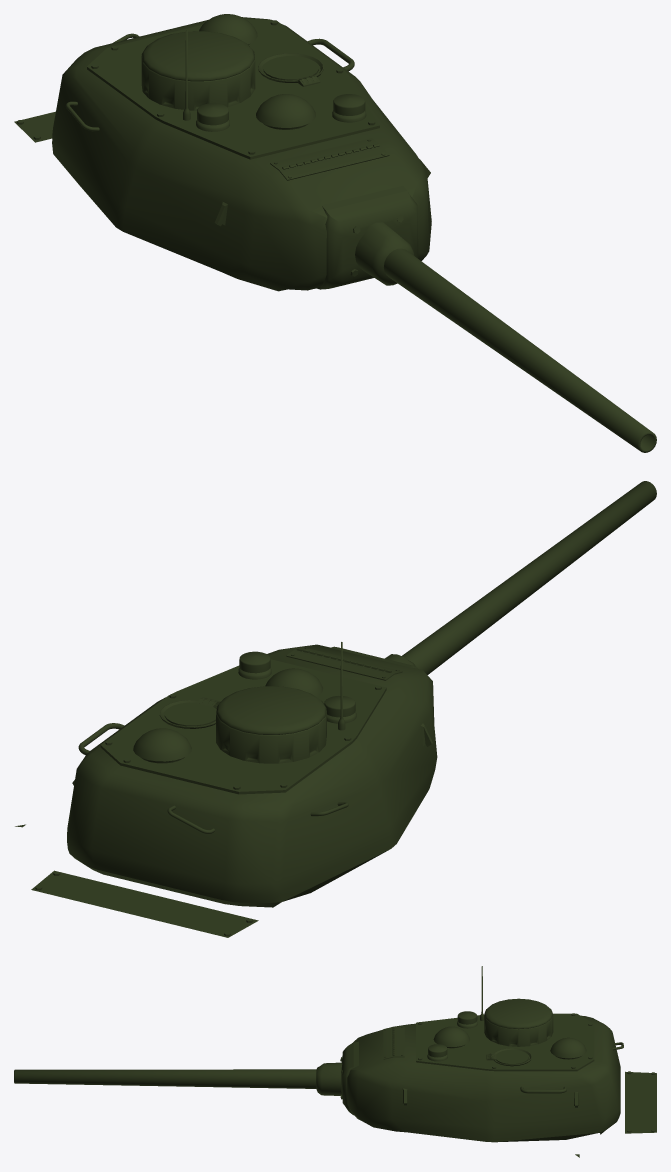
Rendered from t34_85_turret_m0.obj.
3 renders of one model, top to bottom at view 1: azimuth 30°, elevation 25°; view 2: azimuth 150°, elevation 25°; view 3: azimuth 270°, elevation 25°, orthographic. The views are drawn at different scales.
Parts seen in each view (by area): view 1: t34_85_turret_m0; view 2: t34_85_turret_m0; view 3: t34_85_turret_m0.
Boxes of the visible parts, left/top/right/bottom form: t34_85_turret_m0: left=14, top=14, right=656, bottom=452; t34_85_turret_m0: left=15, top=481, right=656, bottom=937; t34_85_turret_m0: left=14, top=966, right=656, bottom=1157.
Bounding box in the file's own units: 2.01 × 1.2 × 5.85.
Materials: 1 (1 with a texture image).
